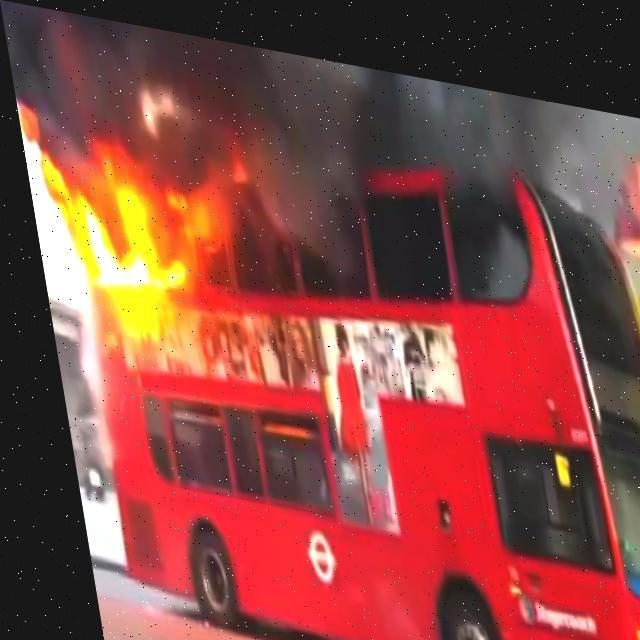Fire: (26, 108, 192, 296)
